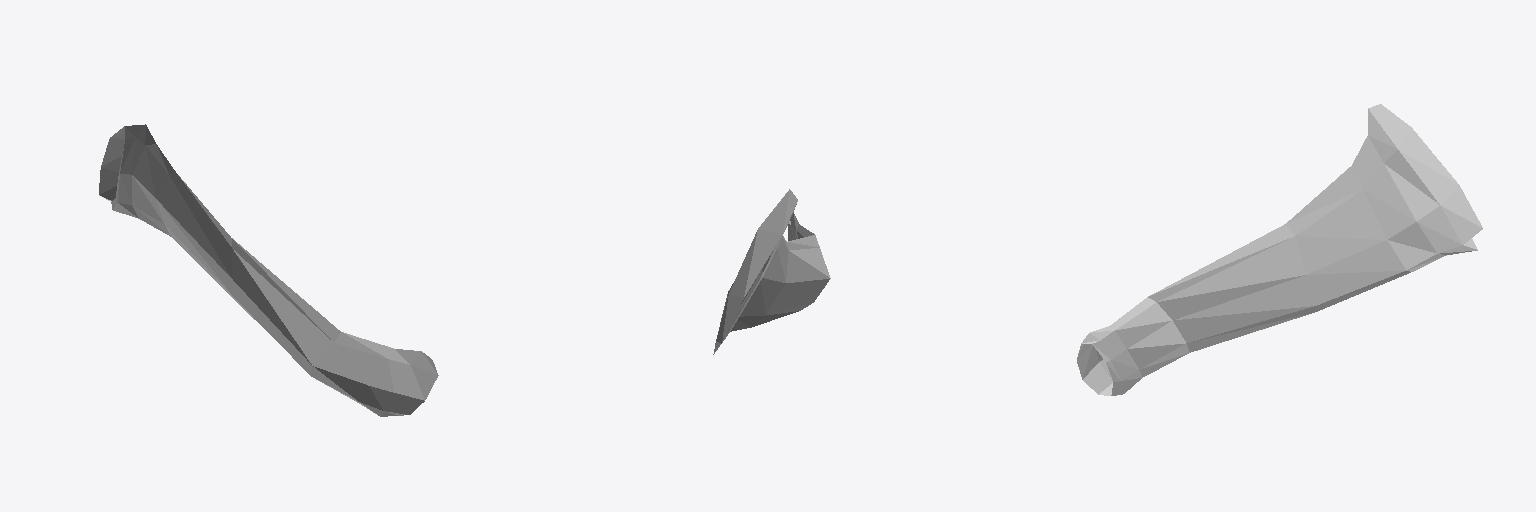
The model's file is Risorius_Muscle_Right.obj.
3 views of the same model, side by side, from view 1: azimuth 30°, elevation 25°; view 2: azimuth 150°, elevation 25°; view 3: azimuth 270°, elevation 25° (orthographic).
Parts seen in each view (by area): view 1: Risorius_Muscle_Right_Mesh group1; view 2: Risorius_Muscle_Right_Mesh group1; view 3: Risorius_Muscle_Right_Mesh group1.
Part boxes in pixels (x1,y1,x2,y2): Risorius_Muscle_Right_Mesh group1: (99, 124, 438, 416); Risorius_Muscle_Right_Mesh group1: (713, 189, 830, 354); Risorius_Muscle_Right_Mesh group1: (1077, 104, 1482, 395).
Bounding box in the file's own units: 0.2138 × 0.2918 × 0.4661.